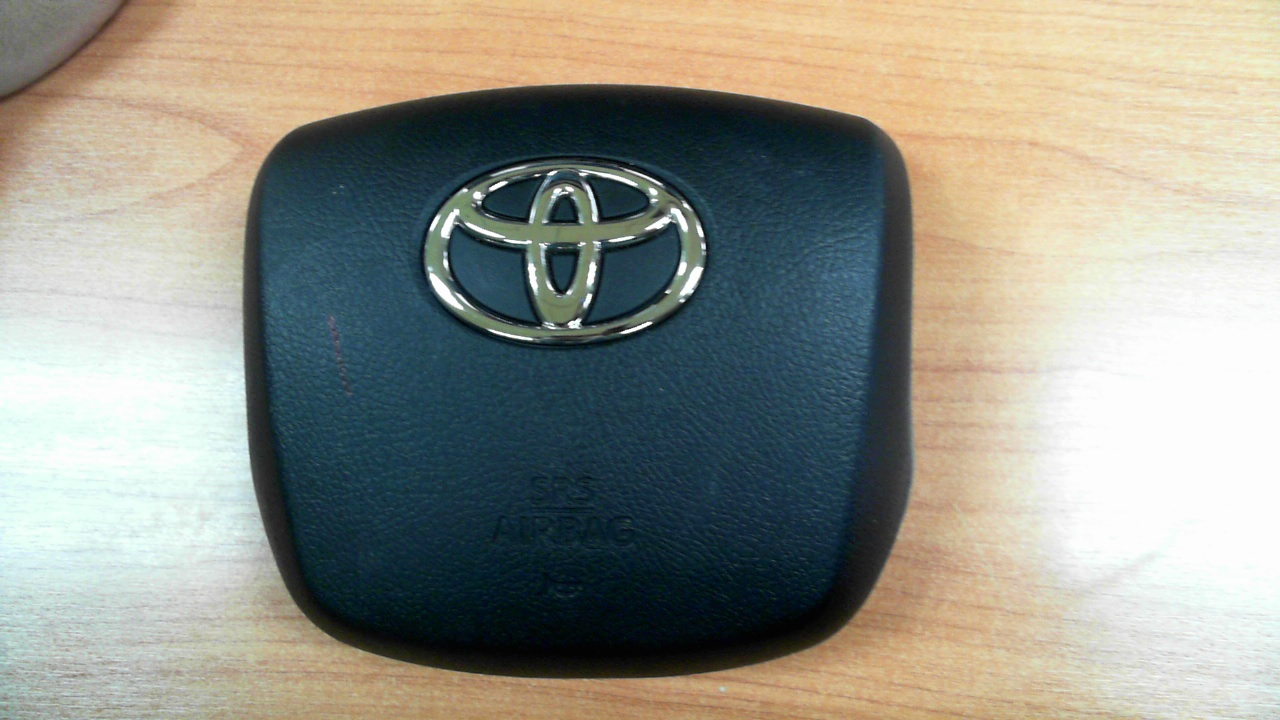Airbag: (240, 83, 915, 681)
Toyota: (423, 155, 707, 345)
